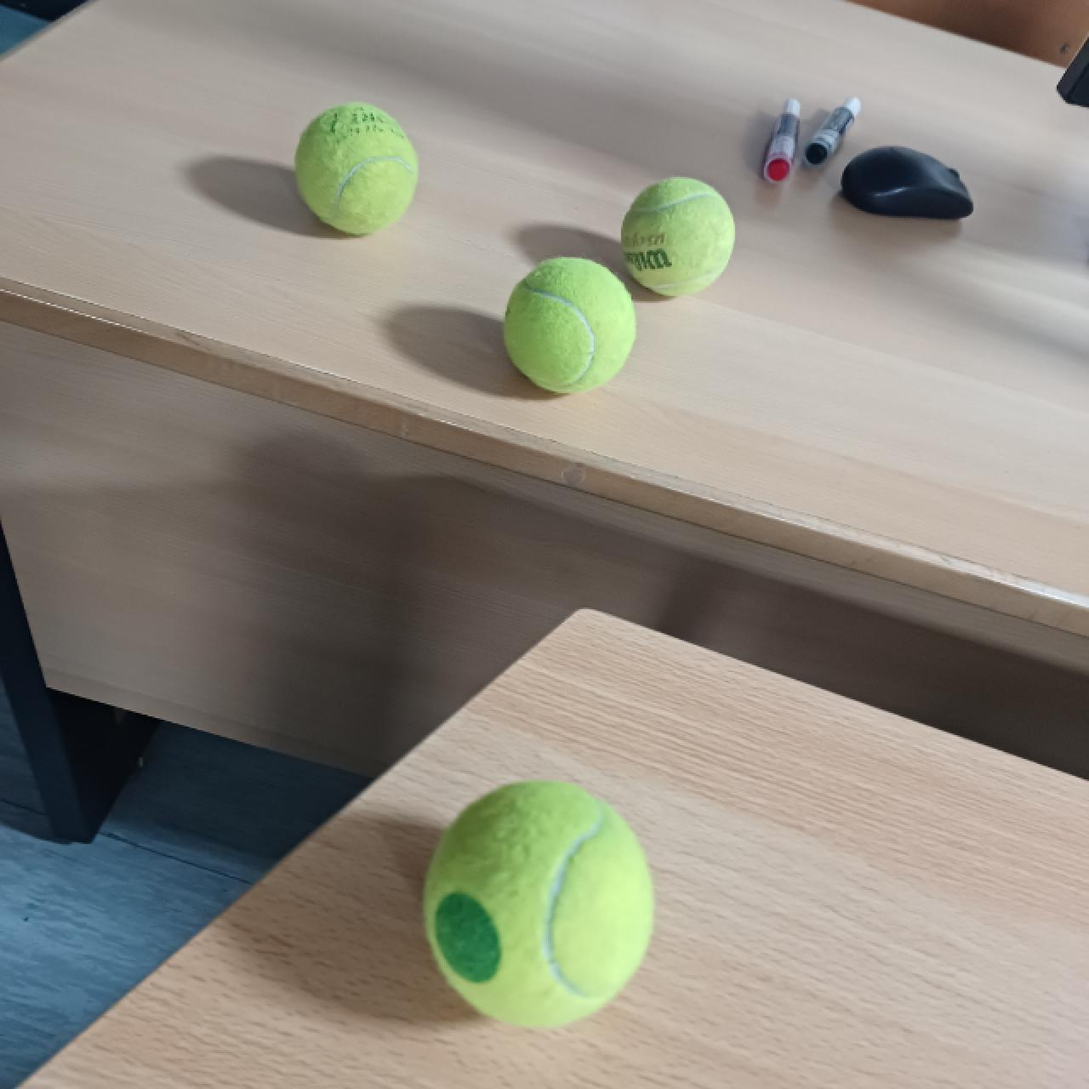tennis-ball: (420, 777, 654, 1031), (501, 256, 638, 396), (293, 101, 420, 240), (620, 176, 740, 297)
